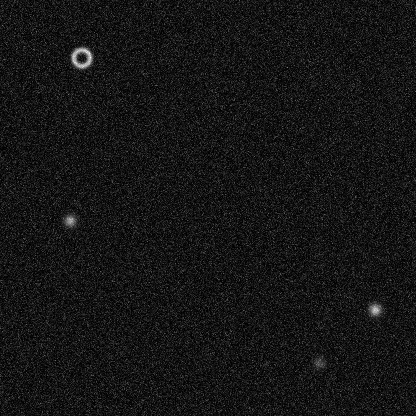Ring: (69, 45, 93, 69)
Spot: (61, 212, 77, 228), (366, 301, 382, 317), (311, 354, 327, 370)
